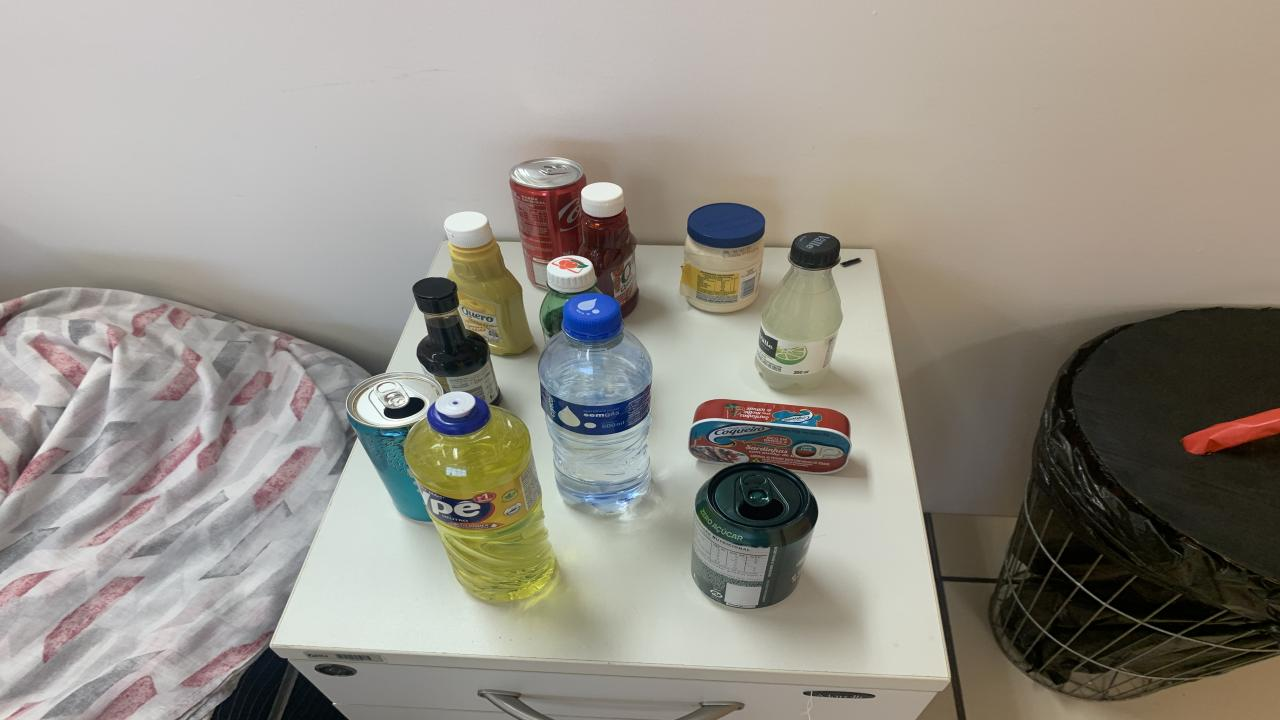Coke-Drinks: (510, 158, 585, 287)
Detergent-Cleanup_Items: (405, 392, 555, 602)
English_Sauce-Pantry_Items: (412, 278, 500, 405)
Guarana-Drinks: (540, 255, 600, 341)
Guarana_Can-Drinks: (690, 463, 818, 609)
Ketchup-Pantry_Items: (578, 182, 638, 317)
Mayonnaise-Pantry_Items: (680, 202, 765, 313)
Mustard-Pantry_Items: (445, 212, 532, 354)
Soda-Drinks: (755, 234, 842, 390)
Tea-Drinks: (348, 371, 442, 521)
Tuna_Can-Pantry_Items: (688, 399, 850, 472)
Water_Bottle-Drinks: (538, 292, 652, 512)
